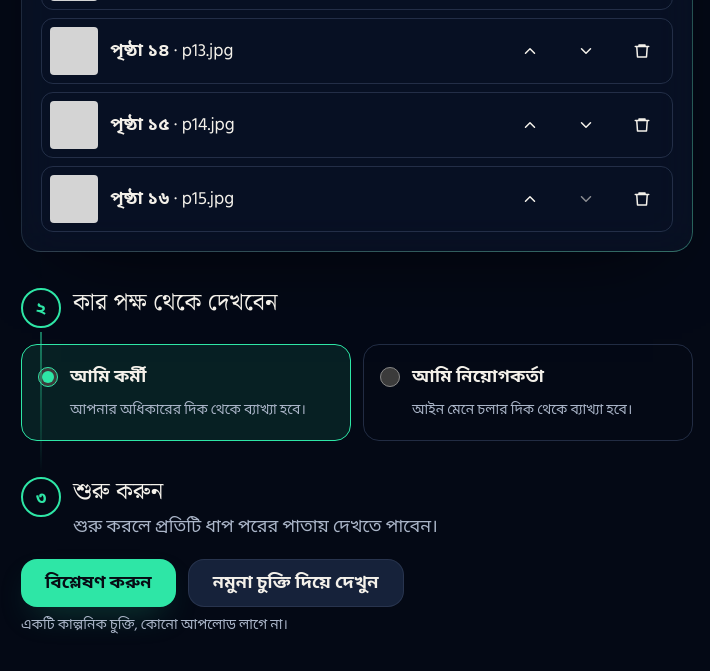
UploadPage › FR-69 refuses more than fifteen photos
The image size is (710, 671).
Earlier steps of the test are not shown.
(page scrolled)
Click the button "বিশ্লেষণ করুন" at [98, 582], box [21,558,176,606]
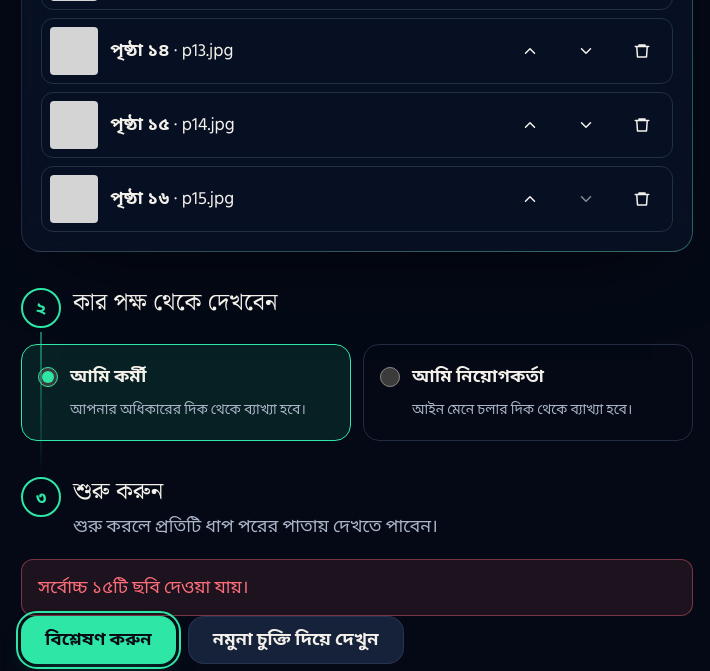
Expected: the message shows "সর্বোচ্চ ১৫টি ছবি", [38,572,249,602]
